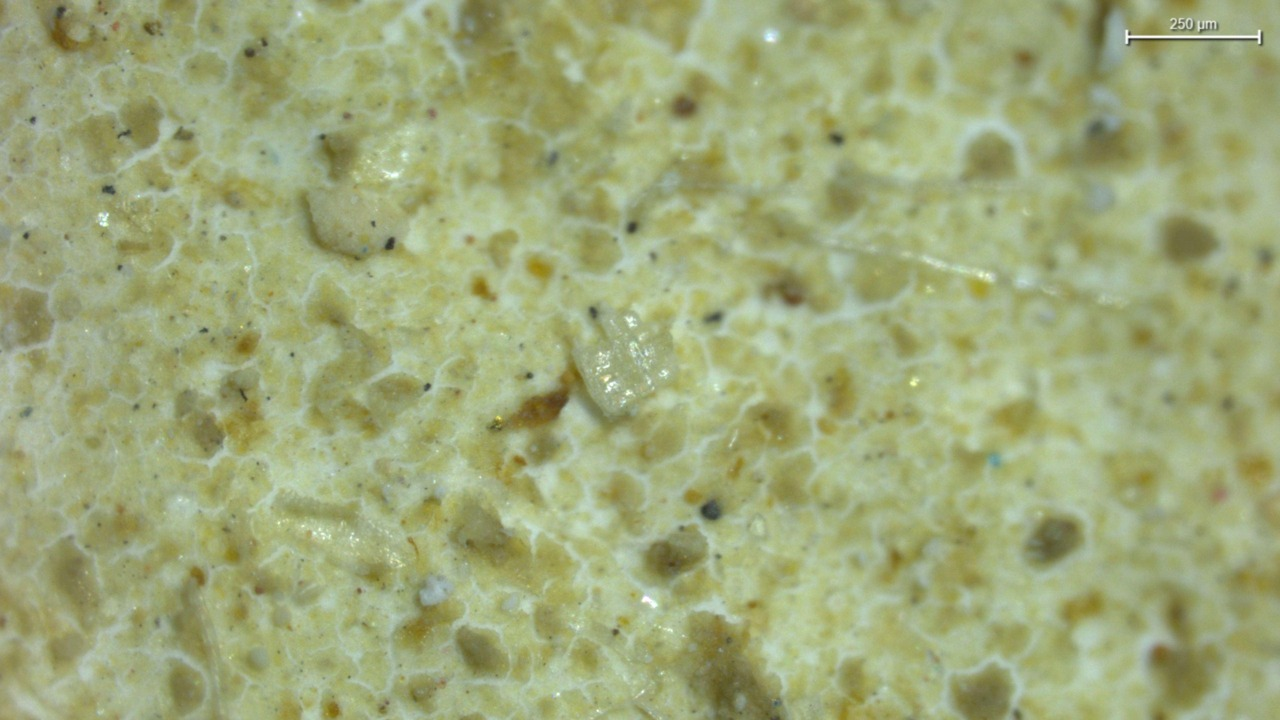microplastic_fragment: (571, 310, 678, 416), (307, 187, 403, 257)
